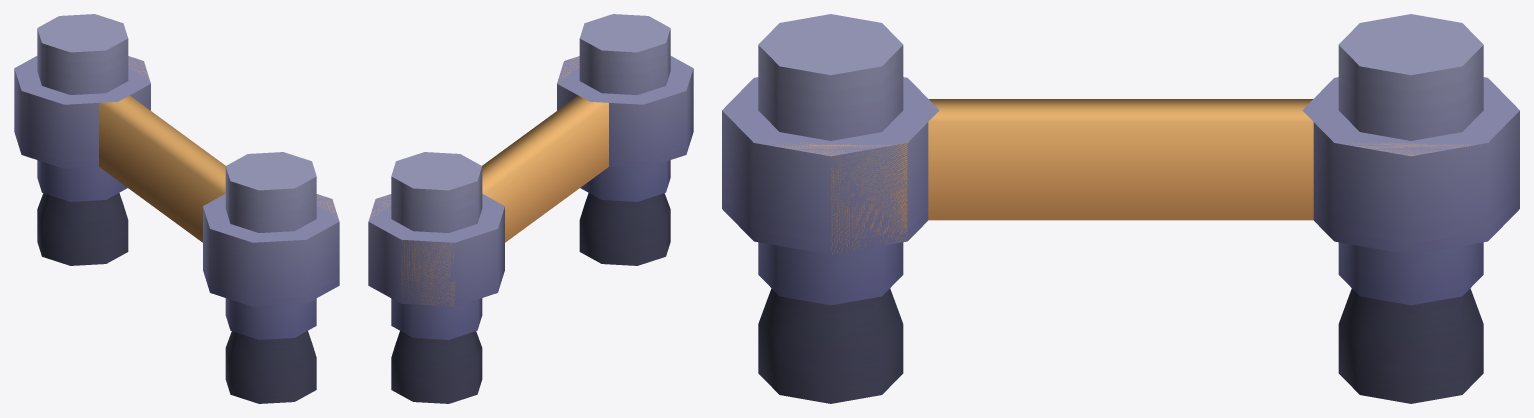
The model's file is kenney-factory-structure-yellow-short.glb.
3 views of the same model, side by side, from view 1: azimuth 30°, elevation 25°; view 2: azimuth 150°, elevation 25°; view 3: azimuth 270°, elevation 25° (orthographic). The views are drawn at different scales.
Parts seen in each view (by area): view 1: structure-yellow-short; view 2: structure-yellow-short; view 3: structure-yellow-short.
Part boxes in pixels (left/top/right/bottom): structure-yellow-short: left=14, top=14, right=339, bottom=403; structure-yellow-short: left=368, top=14, right=693, bottom=403; structure-yellow-short: left=722, top=14, right=1519, bottom=403.
Bounding box in the file's own units: 0.3 × 0.5 × 1.1.
Materials: 1 (1 with a texture image).
